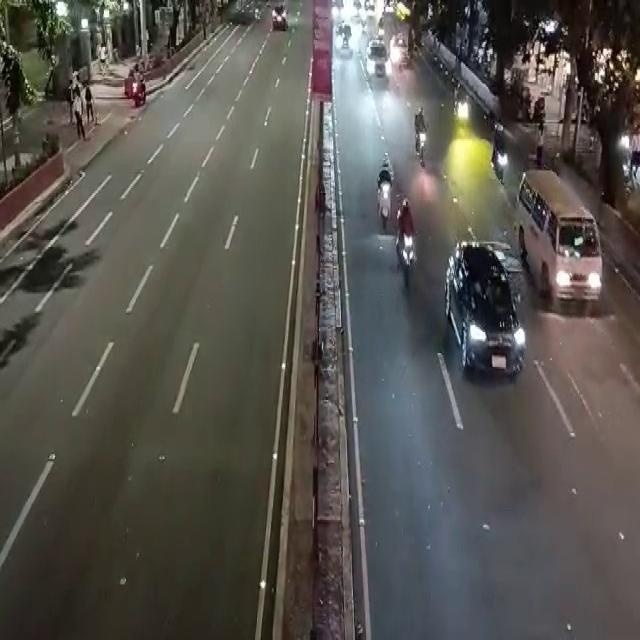car: (518, 172, 617, 298), (449, 256, 526, 394), (364, 48, 388, 86), (265, 4, 289, 36)
motorcycle: (396, 207, 412, 296), (489, 127, 513, 186), (411, 103, 434, 159), (127, 62, 151, 114), (446, 82, 470, 132), (376, 153, 390, 231)
